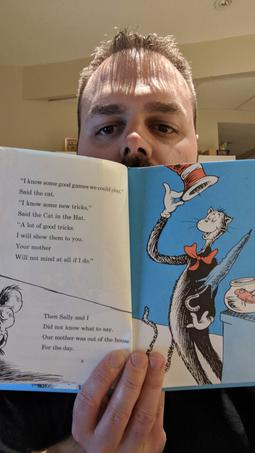text block: (8, 171, 124, 271), (38, 307, 132, 362)
